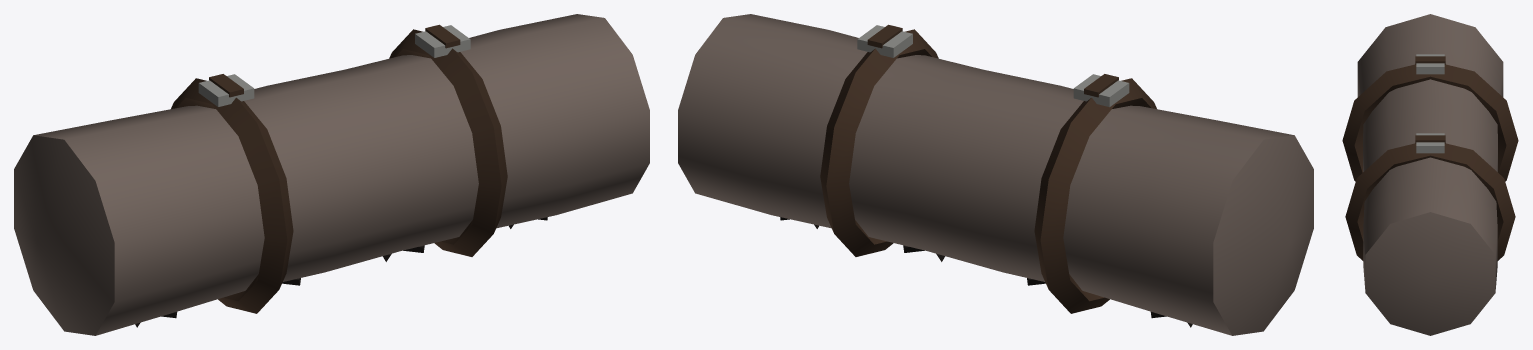
Rendered from butcher_upperarm.glb.
The picture shows the model from 3 angles, left to right: view 1: azimuth 30°, elevation 25°; view 2: azimuth 150°, elevation 25°; view 3: azimuth 270°, elevation 25°; orthographic projection. The views are drawn at different scales.
Visible parts, largest first — view 1: butcher_upperarm; view 2: butcher_upperarm; view 3: butcher_upperarm.
Part boxes in pixels (left/top/right/bottom): butcher_upperarm: left=14, top=14, right=649, bottom=335; butcher_upperarm: left=678, top=14, right=1313, bottom=335; butcher_upperarm: left=1342, top=14, right=1518, bottom=335.
Bounding box in the file's own units: 0.4933 × 0.1776 × 0.1756.
